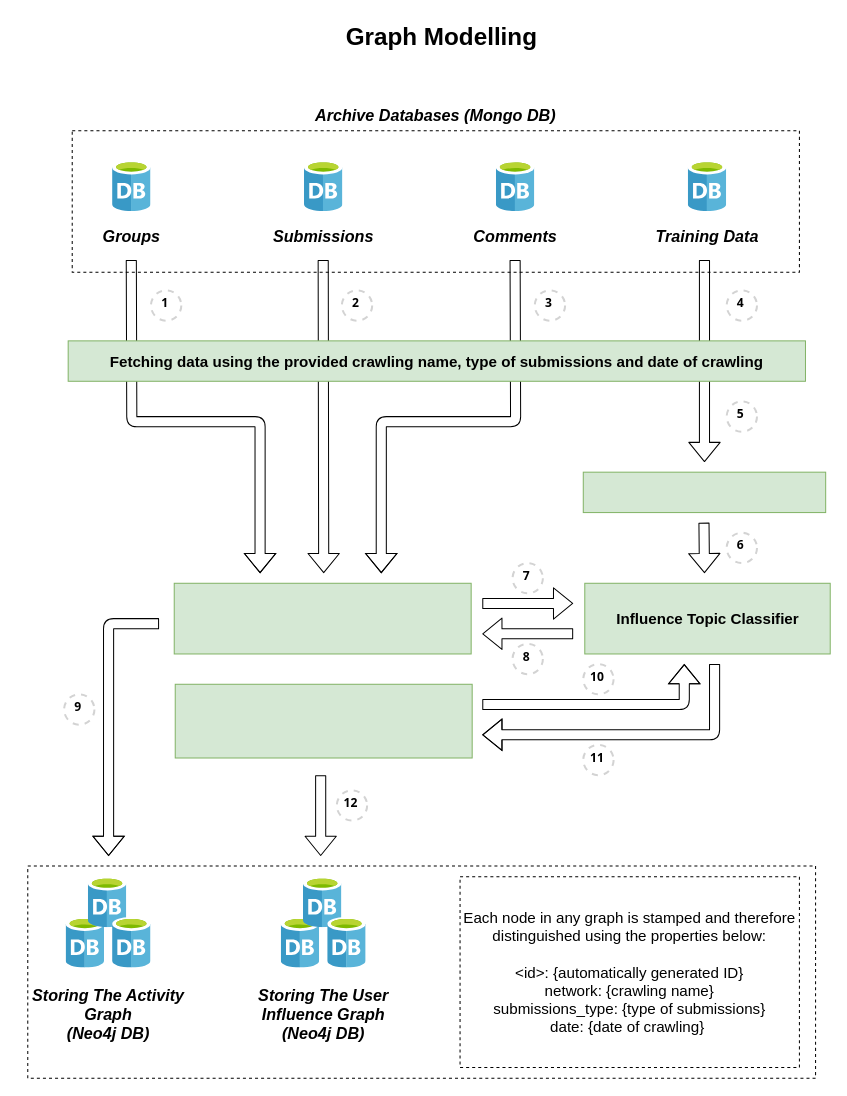
The diagram is 847 pixels wide and 1096 high, and some of its shapes have lost their labels. Each missing label, with the centre of its shape:
"Activity Graph Building" belongs at point 322,618.
"Training Text Classifier" belongs at point 704,492.
"User Influence Graph Building" belongs at point 323,720.
